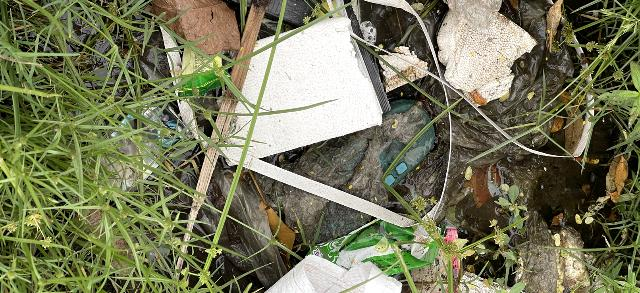cocksheet: (196, 15, 384, 166), (421, 0, 541, 111)
